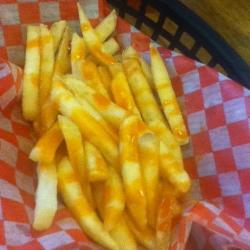fries: (29, 31, 184, 239)
